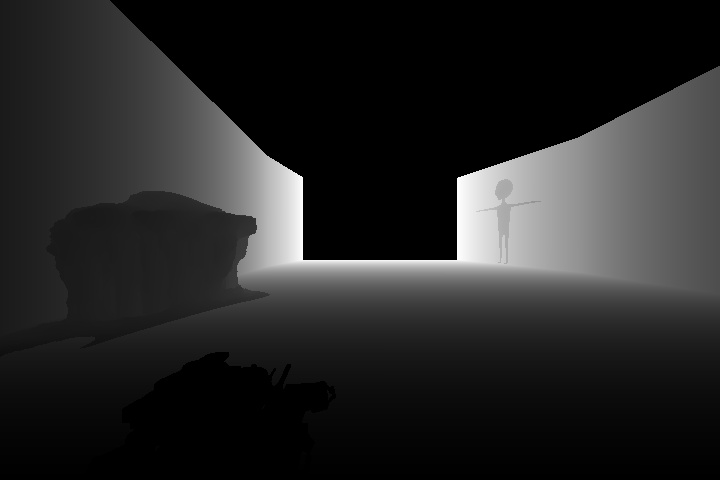alien: (474, 177, 542, 265)
green rock: (44, 189, 272, 352)
